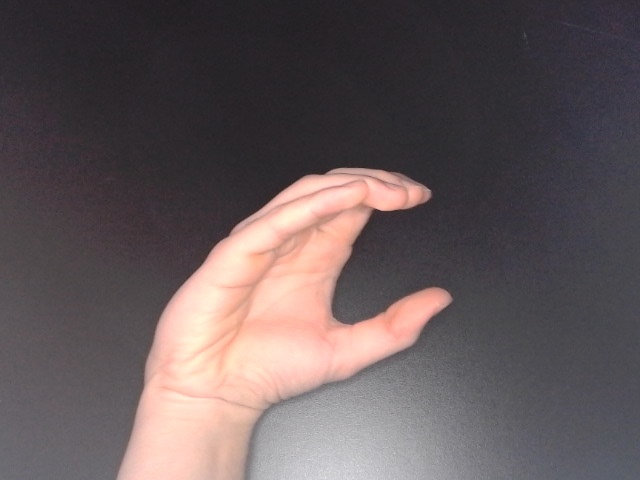c: (139, 163, 458, 425)
